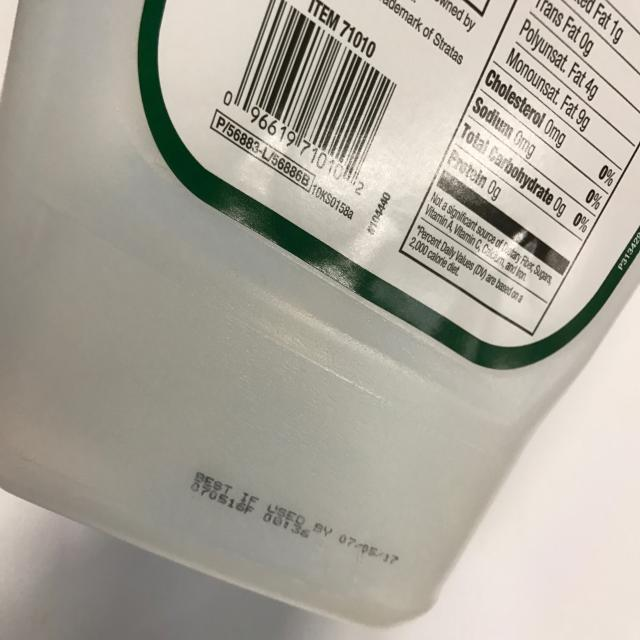plastic: (0, 1, 640, 626)
